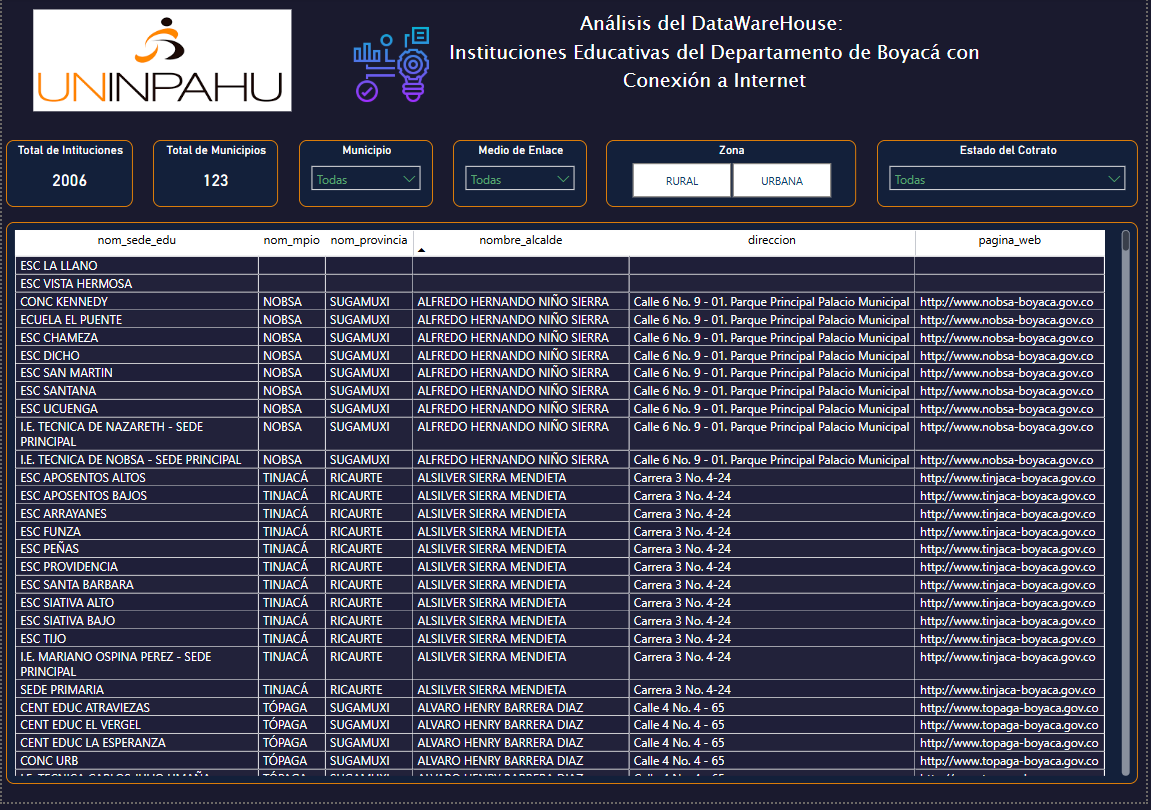

Layout of this report page (visuals, bound fields, positions):
{"tool":"powerbi","page":{"name":"Detalle_Instituciones_Educativas","canvas":[1280,900],"ordinal":1},"visuals":[{"type":"group","id":"g1","title":"Grupo 1","box":[387.3,7.8,738.8,132.1],"z":0},{"type":"textbox","box":[428.2,7.8,697.9,124.8],"z":0,"group":"g1"},{"type":"image","box":[387.3,8.7,97.4,131.2],"z":1000,"group":"g1"},{"type":"group","id":"g2","title":"Grupo 2","box":[4.5,159,142.2,75],"z":1000},{"type":"card","title":"Total de Intituciones","fields":{"Values":["CountNonNull(fact_conexion_internet.cod_dane_ins_edu)"]},"box":[4.5,159,142.2,75],"z":1000,"group":"g2"},{"type":"image","box":[0,7.8,359.3,124.3],"z":2000},{"type":"card","title":"Total de Municipios","fields":{"Values":["CountNonNull(dim_alcaldia.nom_mpio)"]},"box":[169,159,139.9,75],"z":3000},{"type":"slicer","title":"Estado del Cotrato","fields":{"Values":["fact_conexion_internet.estado"]},"box":[979.5,159,292.2,75],"z":4000},{"type":"slicer","title":"Zona","fields":{"Values":["fact_conexion_internet.zona"]},"box":[676.1,159,279.9,75],"z":5000},{"type":"slicer","title":"Medio de Enlace","fields":{"Values":["fact_conexion_internet.medio_enlace"]},"box":[504.9,159,150,75],"z":6000},{"type":"slicer","title":"Municipio","fields":{"Values":["dim_alcaldia.nom_mpio"]},"box":[332.5,159,150,75],"z":7000},{"type":"actionButton","box":[0,0,100,40],"z":8000},{"type":"tableEx","fields":{"Values":["fact_conexion_internet.nom_sede_edu","dim_alcaldia.nom_mpio","dim_alcaldia.nom_provincia","dim_alcaldia.nombre_alcalde","dim_alcaldia.direccion","dim_alcaldia.pagina_web"]},"box":[4.5,250.7,1267.2,629.1],"z":9000}]}

Visuals, with their boxes in screenshot pixels (x1, y1, x2, y2), scaled from the page's 1280x900 canvas onto the 1151x810 screenshot:
"Grupo 1" group: <box>348,7,1013,126</box>
textbox: <box>385,7,1013,119</box>
image: <box>348,8,436,126</box>
"Grupo 2" group: <box>4,143,132,211</box>
"Total de Intituciones" card: <box>4,143,132,211</box>
image: <box>0,7,323,119</box>
"Total de Municipios" card: <box>152,143,278,211</box>
"Estado del Cotrato" slicer: <box>881,143,1144,211</box>
"Zona" slicer: <box>608,143,860,211</box>
"Medio de Enlace" slicer: <box>454,143,589,211</box>
"Municipio" slicer: <box>299,143,434,211</box>
actionButton: <box>0,0,90,36</box>
tableEx - fact_conexion_internet.nom_sede_edu x dim_alcaldia.nom_mpio: <box>4,226,1144,792</box>
